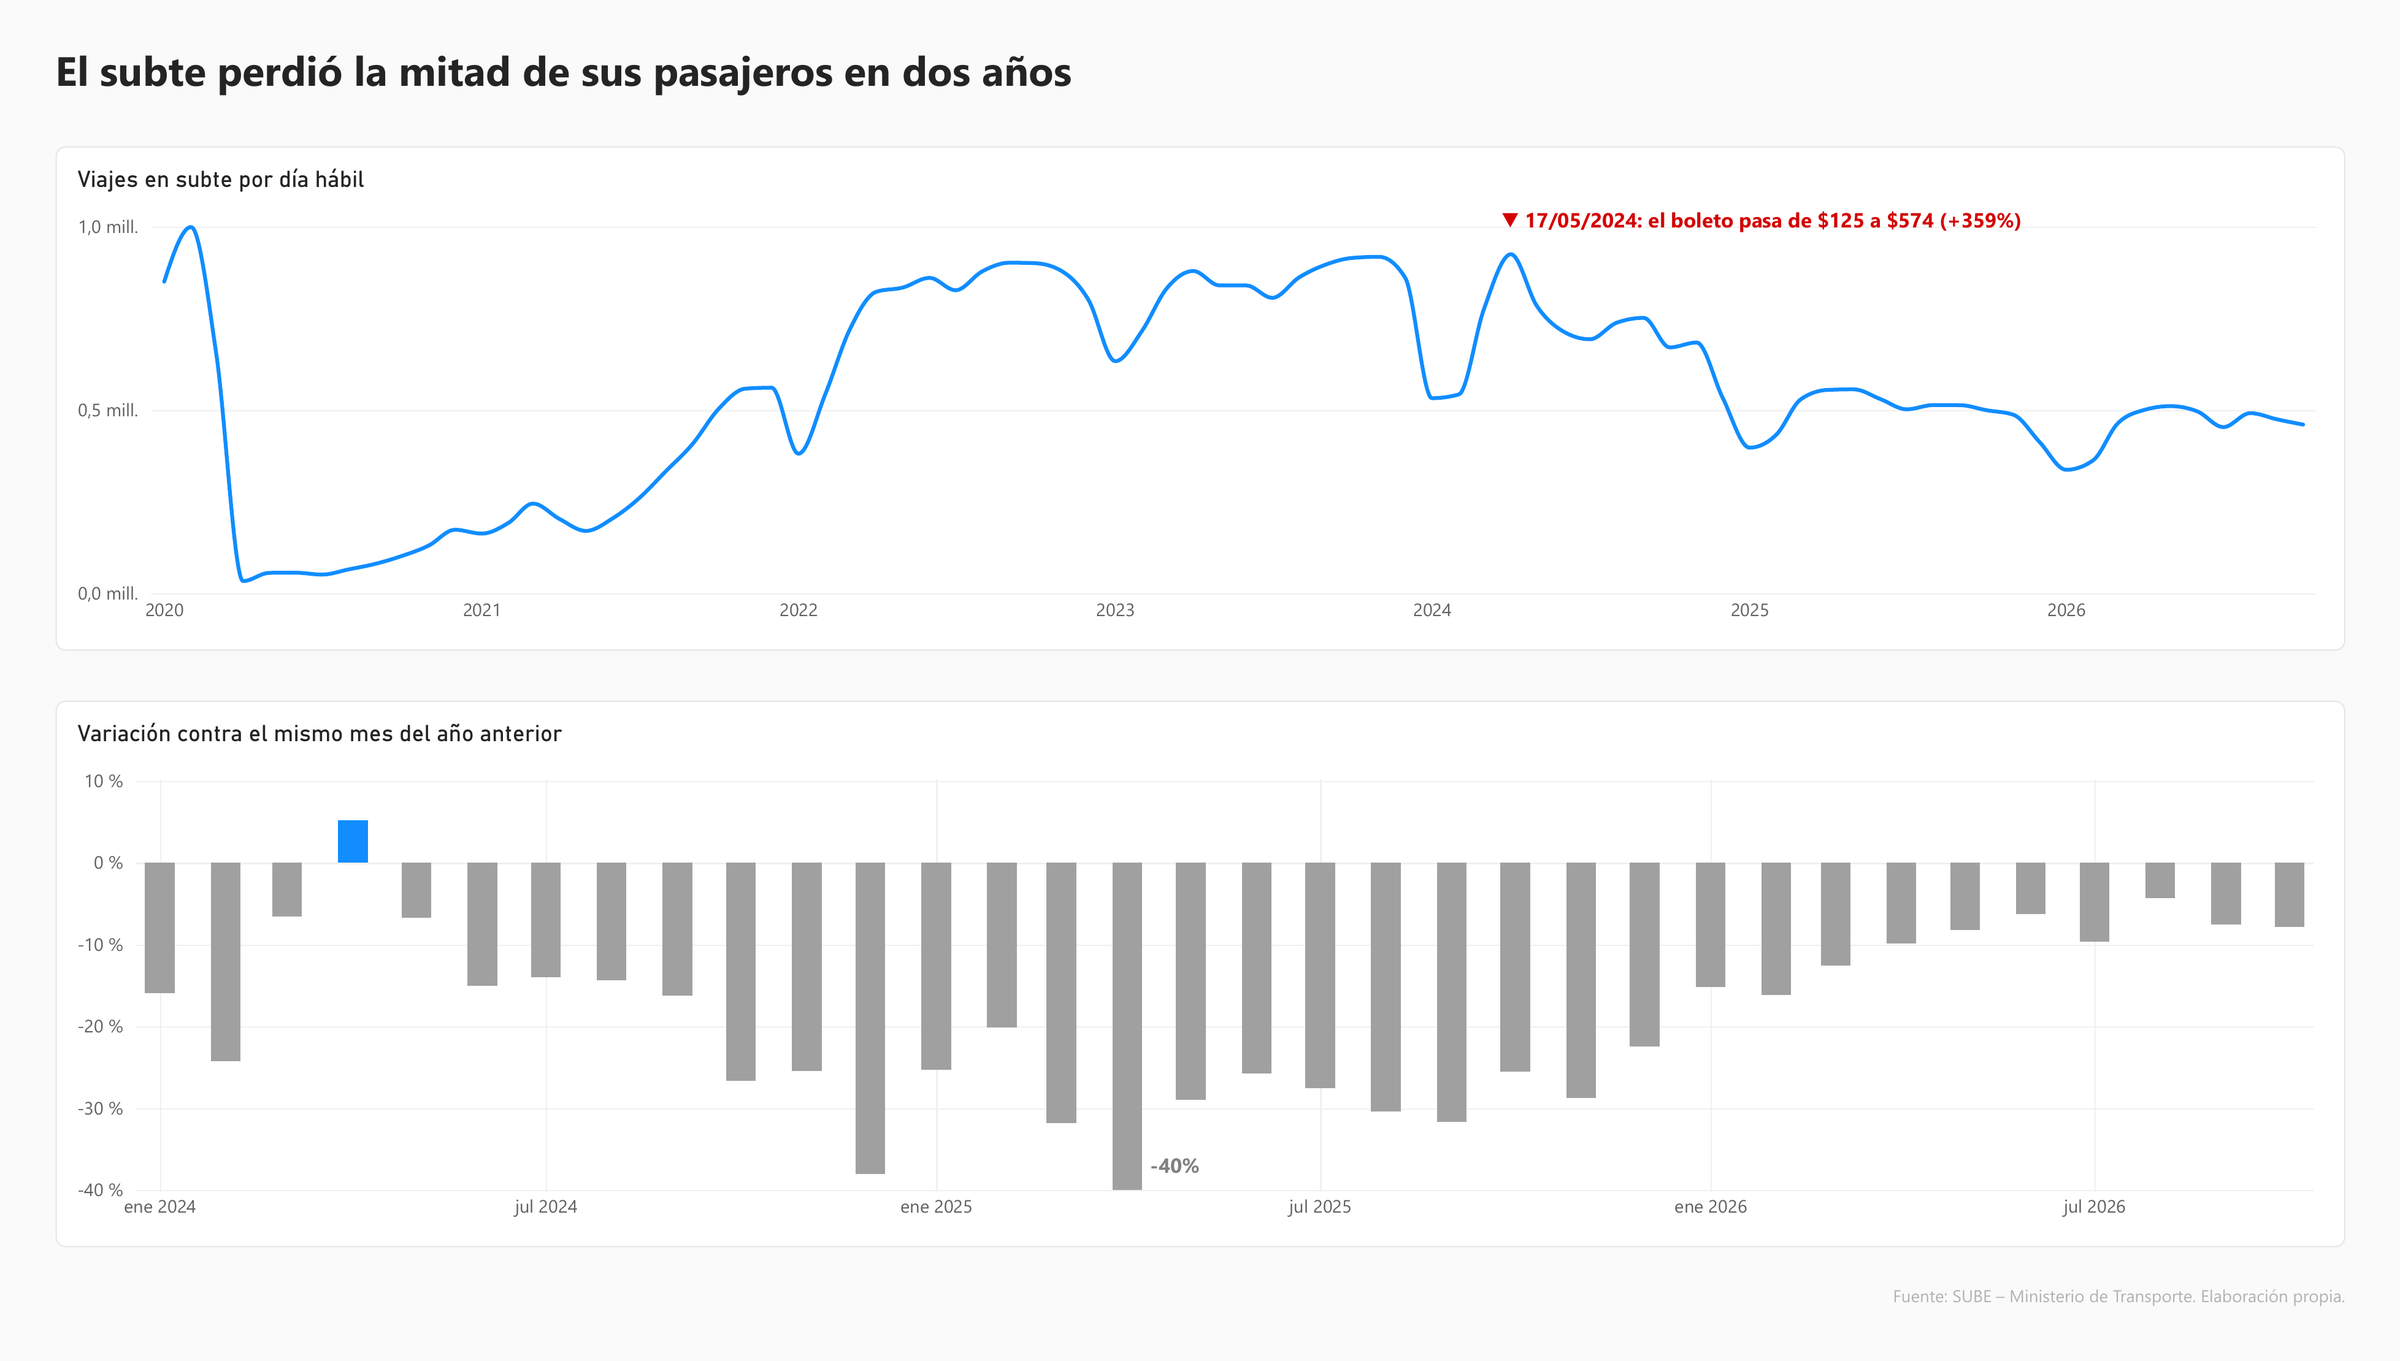

This screenshot's page, from the dashboard's own definition file:
{"tool":"powerbi","page":{"name":"El subte","canvas":[1920,1080],"ordinal":1},"visuals":[{"type":"textbox","box":[54.6,45.9,815.1,63.2],"z":0},{"type":"lineChart","title":"Viajes en subte por día hábil","fields":{"Category":["dim_fecha.inicio_mes"],"Y":["fact_usos_amba.Promedio día hábil"]},"box":[55,128.3,1791.7,395],"z":1000},{"type":"textbox","box":[1186.7,175,490.8,36],"z":2000},{"type":"clusteredColumnChart","title":"Variación contra el mismo mes del año anterior","fields":{"Category":["dim_fecha.inicio_mes"],"Y":["fact_usos_amba.Var. interanual %"]},"box":[55,561.7,1791.7,428.3],"z":3000},{"type":"textbox","box":[986.7,1018.3,860,38.3],"z":3001},{"type":"textbox","box":[911.7,915,300,30],"z":3002}]}

Visuals, with their boxes in screenshot pixels (x1, y1, x2, y2), scaled from the page's 1920x1080 canvas onto the 2400x1361 screenshot:
textbox: 68/58/1087/137
"Viajes en subte por día hábil" lineChart: 69/162/2308/659
textbox: 1483/221/2097/266
"Variación contra el mismo mes del año anterior" clusteredColumnChart: 69/708/2308/1248
textbox: 1233/1283/2308/1332
textbox: 1140/1153/1515/1191
